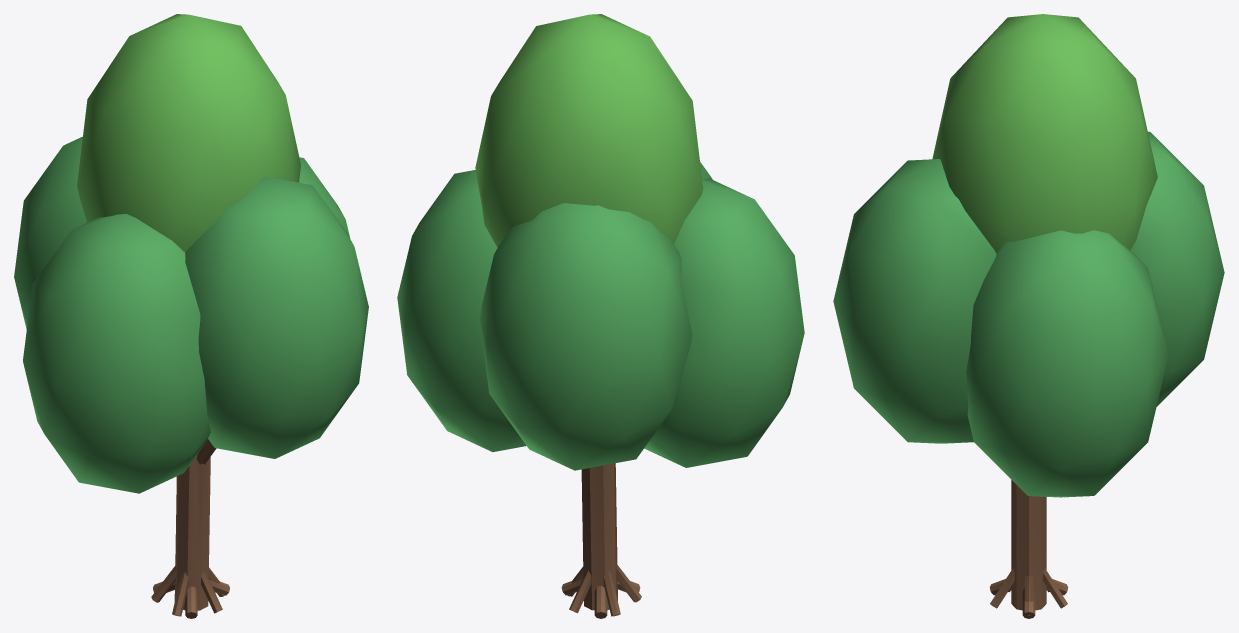
Rendered from tree-maple.glb.
The picture shows the model from 3 angles, left to right: view 1: azimuth 30°, elevation 25°; view 2: azimuth 150°, elevation 25°; view 3: azimuth 270°, elevation 25°; orthographic projection.
Visible parts, largest first — view 1: rounded crown, rounded crown.004, branch; view 2: rounded crown, rounded crown.004, branch; view 3: rounded crown, rounded crown.004, branch.
Part boxes in pixels (x1,y1,x2,y2): rounded crown: [14, 136, 368, 493]; rounded crown.004: [77, 14, 300, 252]; branch: [151, 439, 229, 618]; rounded crown: [397, 162, 804, 470]; rounded crown.004: [475, 14, 703, 247]; branch: [561, 463, 641, 618]; rounded crown: [833, 131, 1224, 497]; rounded crown.004: [932, 14, 1157, 253]; branch: [989, 480, 1068, 618].
Size of the model in its own units: 2.23 by 3.7 by 2.22.
